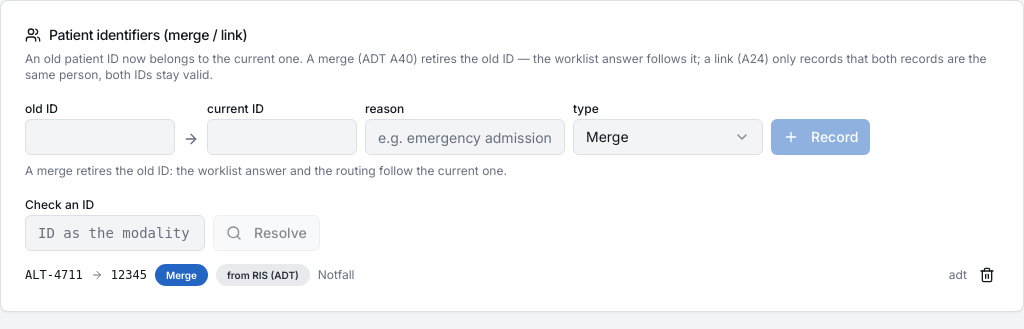
Test: PatientMergeCard › resolves an identifier the modality sends
Check: the list with test id "merge-list" is shown, box [25,263,999,287]
Type "ALT-4711" into the field labelled "Check an ID" at (115, 233), box [25,215,205,251]
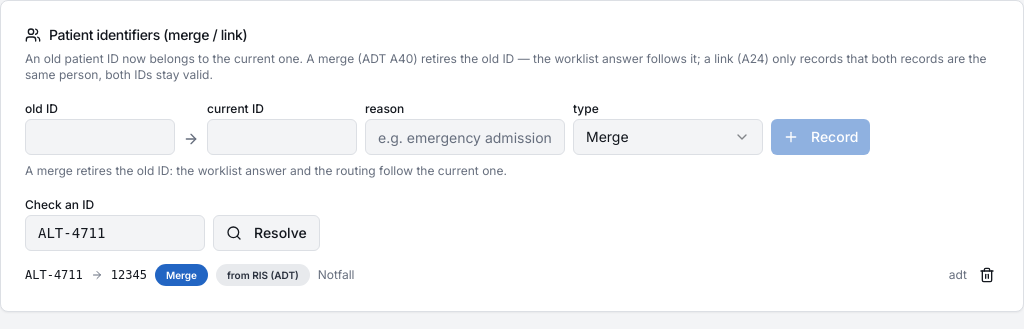
Click the button "Resolve" at (266, 233), box [213,215,320,251]
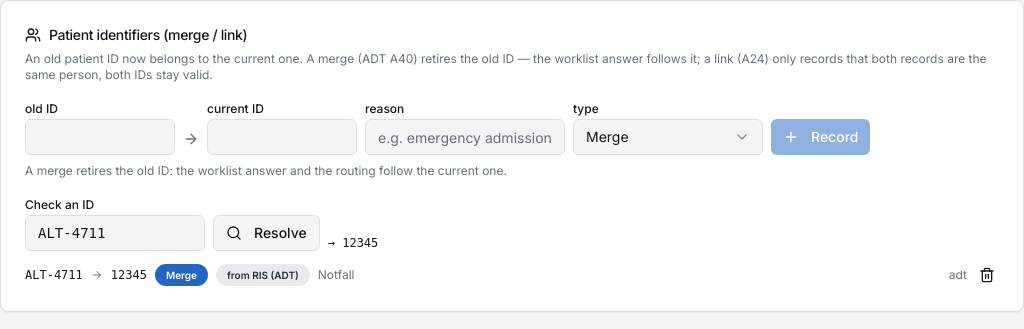
Check: the message with test id "merge-probe-result" shows "12345", box [328,236,378,250]
